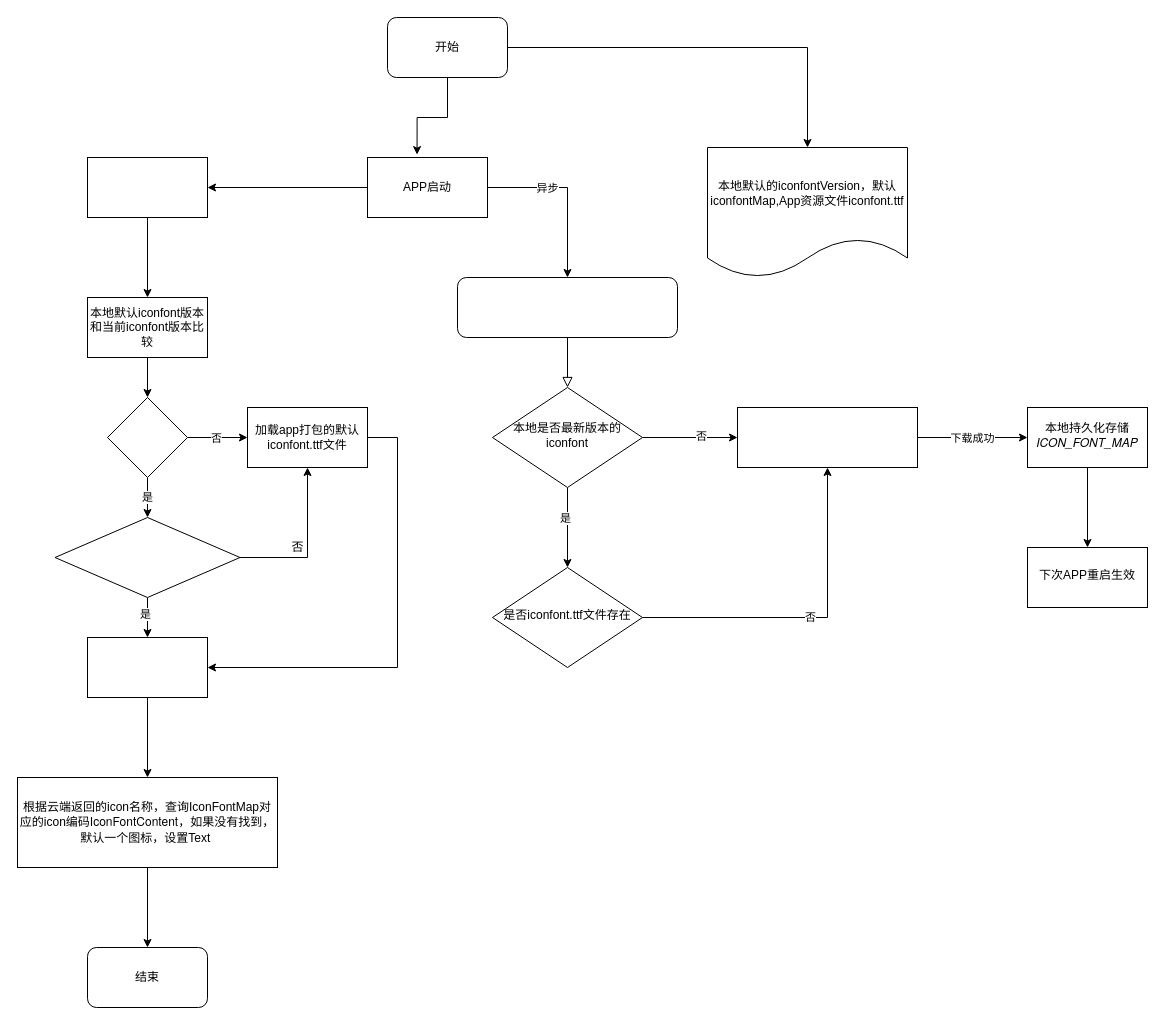
The diagram is 1165 pixels wide and 1025 high, and some of its shapes have lost their labels. Here are the shapes that lost their labels. From the top down, the centre of each, then its label:
At point (147, 187): "View加载iconfont.ttf".
At point (567, 307): "请求云端是否是最新版本 （接口： tuya.m.iconfont.version.get ）".
At point (147, 437): "是否是最新".
At point (827, 437): "下载最新iconfont.tts文件到本地 （接口： tuya.m.cssttf.get ）".
At point (147, 557): "iconfont.ttf文件是否存在".
At point (147, 667): "获得 Typeface,设置View的 Typeface".
